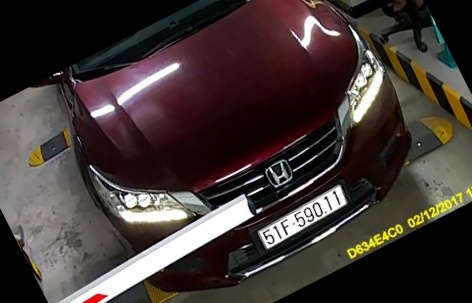plate: (248, 187, 357, 249)
